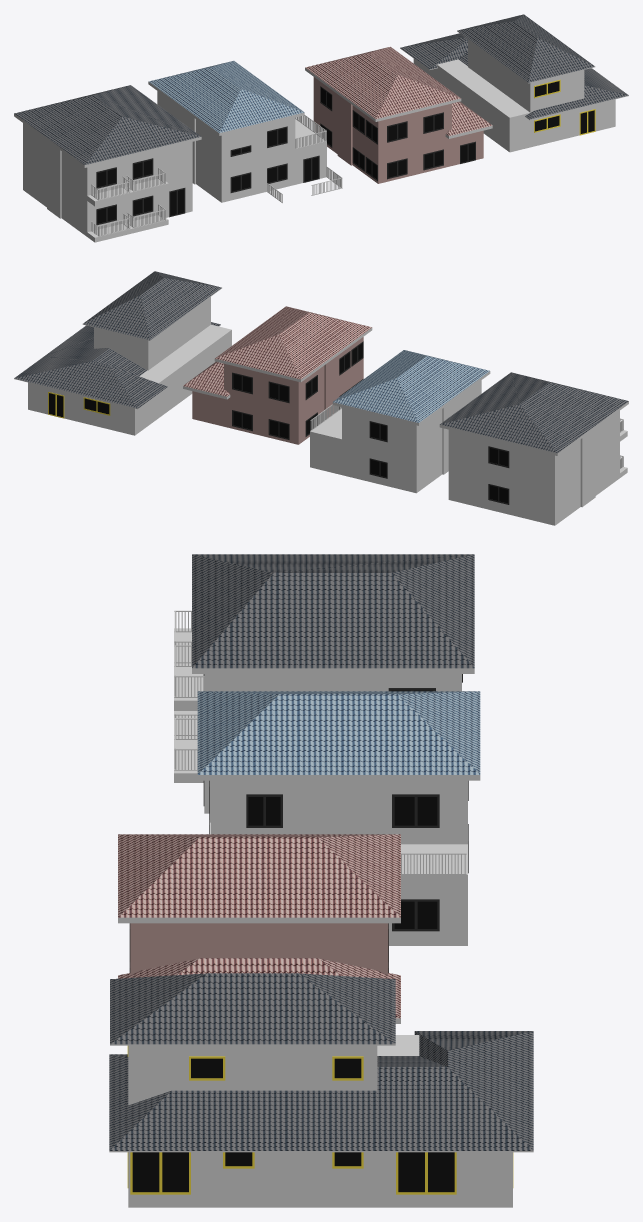
File: FIX HOUSE.fbx
The picture shows the model from 3 angles, top to bottom: view 1: azimuth 30°, elevation 25°; view 2: azimuth 150°, elevation 25°; view 3: azimuth 270°, elevation 25°; orthographic projection. The views are drawn at different scales.
Parts seen in each view (by area): view 1: Object606398, Box2131640187, Box2131640169, Box2131640188; view 2: Object606398, Box2131640187, Box2131640169, Box2131640188; view 3: Box2131640187, Box2131640188, Object606398, Box2131640169.
Part boxes in pixels (x1,y1,x2,y2): Object606398: [14, 85, 201, 242]; Box2131640187: [400, 14, 628, 152]; Box2131640169: [305, 46, 492, 183]; Box2131640188: [148, 60, 342, 203]; Object606398: [439, 372, 628, 525]; Box2131640187: [14, 271, 231, 435]; Box2131640169: [183, 306, 372, 444]; Box2131640188: [310, 350, 490, 493]; Box2131640187: [109, 973, 533, 1207]; Box2131640188: [197, 691, 480, 945]; Object606398: [174, 554, 474, 813]; Box2131640169: [118, 834, 400, 1023].
Bounding box in the file's own units: 49144 × 8496 × 17232.
9 materials, 4 textured.
